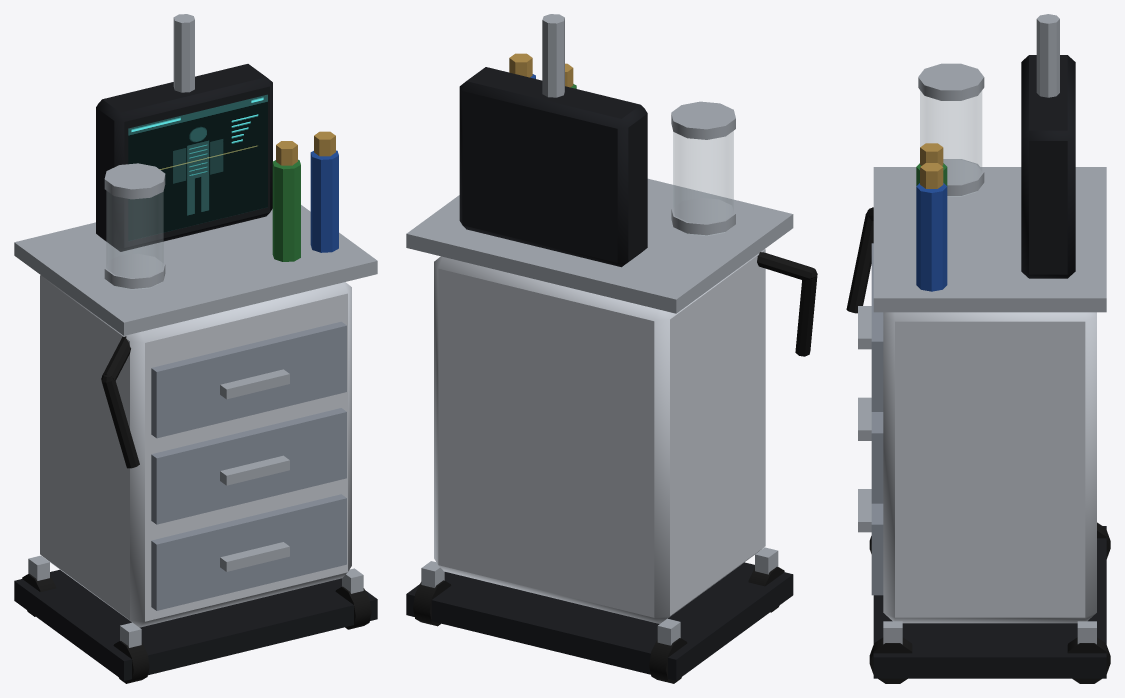
Rendered from surgical_anesthesia_machine.glb.
The picture shows the model from 3 angles, left to right: view 1: azimuth 30°, elevation 25°; view 2: azimuth 150°, elevation 25°; view 3: azimuth 270°, elevation 25°; orthographic projection. The views are drawn at different scales.
Parts seen in each view (by area): view 1: surgical_anesthesia_machine; view 2: surgical_anesthesia_machine; view 3: surgical_anesthesia_machine.
Boxes of the visible parts, x1,y1,x2,y2 form: surgical_anesthesia_machine: [14, 14, 377, 683]; surgical_anesthesia_machine: [406, 14, 817, 683]; surgical_anesthesia_machine: [846, 14, 1110, 683].
Size of the model in its own units: 0.87 by 1.74 by 0.6796.
Materials: 10 (1 with a texture image).
